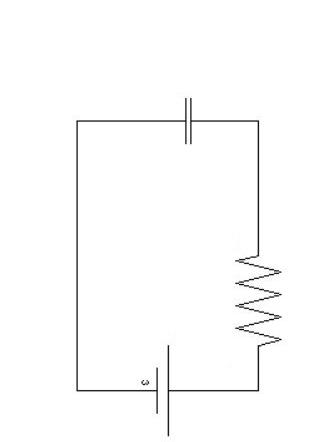resistor: (221, 229, 295, 371)
